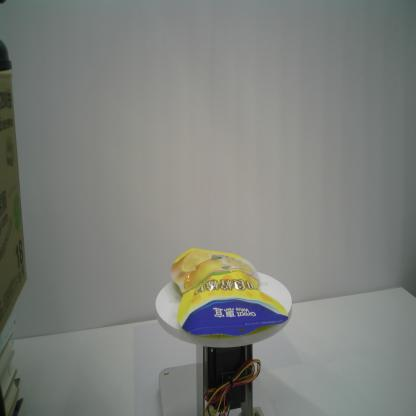Dried Fruit: (170, 246, 290, 339)
